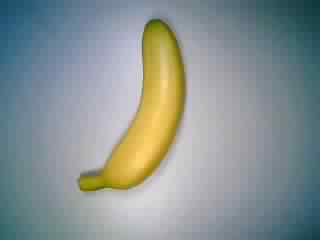banana: (74, 10, 190, 201)
